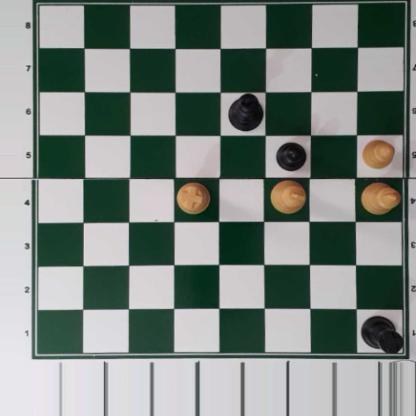black-king: (226, 94, 263, 131)
black-pawn: (276, 140, 306, 171)
black-rook: (359, 317, 403, 353)
white-bishop: (361, 181, 401, 215)
white-king: (269, 179, 307, 216)
white-pawn: (361, 139, 394, 168)
white-rook: (177, 182, 210, 214)
